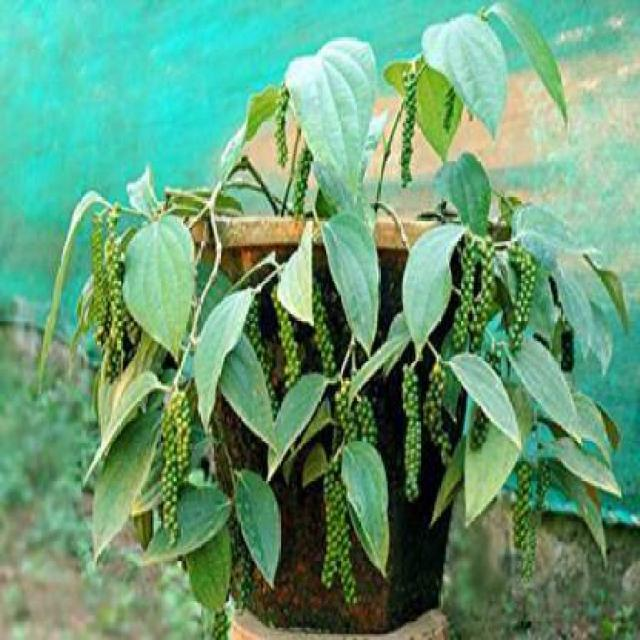UNRIPE: (320, 460, 357, 605), (305, 269, 340, 366), (230, 486, 256, 614), (451, 222, 475, 351), (402, 362, 422, 506), (274, 272, 298, 386), (159, 410, 179, 545), (332, 388, 380, 443), (106, 207, 120, 376), (511, 453, 529, 575), (397, 64, 414, 190), (508, 242, 529, 341), (429, 357, 448, 466), (88, 208, 103, 346), (169, 388, 189, 486), (269, 74, 288, 165), (291, 138, 312, 218), (539, 455, 550, 511), (211, 611, 228, 638)
